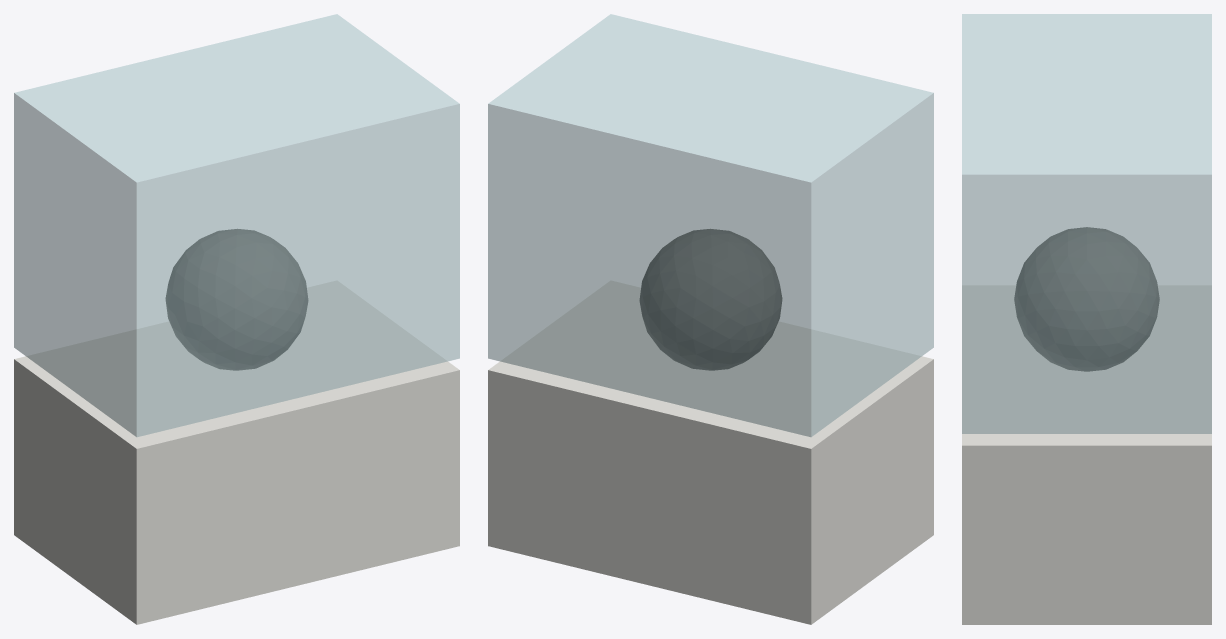
The model's file is display_case_01.glb.
3 renders of one model, left to right at view 1: azimuth 30°, elevation 25°; view 2: azimuth 150°, elevation 25°; view 3: azimuth 270°, elevation 25°, orthographic.
Parts seen in each view (by area): view 1: glass, base, artifact; view 2: glass, base, artifact; view 3: glass, base, artifact.
Boxes of the visible parts, x1,y1,x2,y2 form: glass: (14,14,459,436); base: (14,280,459,624); artifact: (165,229,308,370); glass: (488,14,933,436); base: (488,280,933,624); artifact: (639,229,782,370); glass: (962,14,1211,433); base: (962,285,1211,624); artifact: (1014,227,1159,371).
Bounding box in the file's own units: 0.73 × 0.955 × 0.48.
